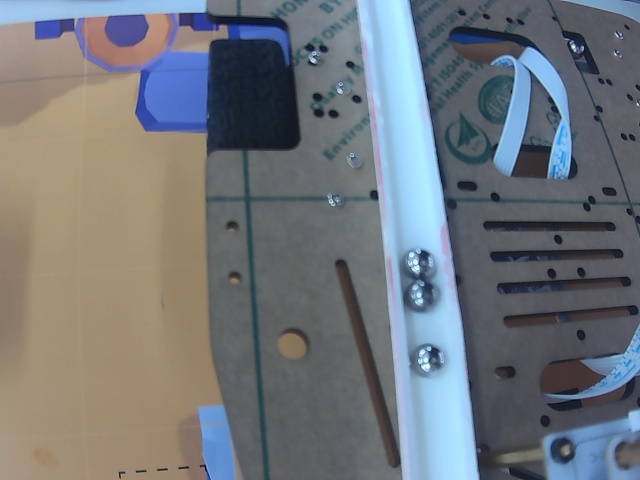steelball: (411, 345, 443, 375), (403, 249, 436, 276), (405, 281, 436, 308)
